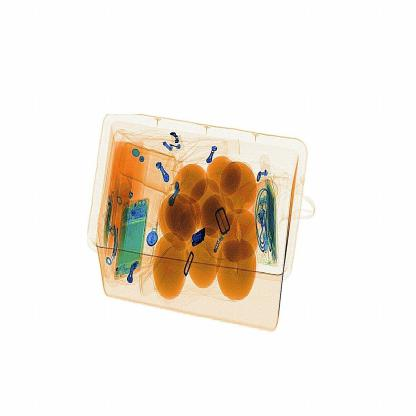knife: (174, 224, 218, 254)
